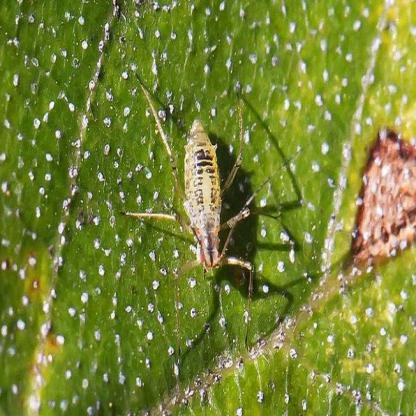aphid: (140, 79, 280, 332)
